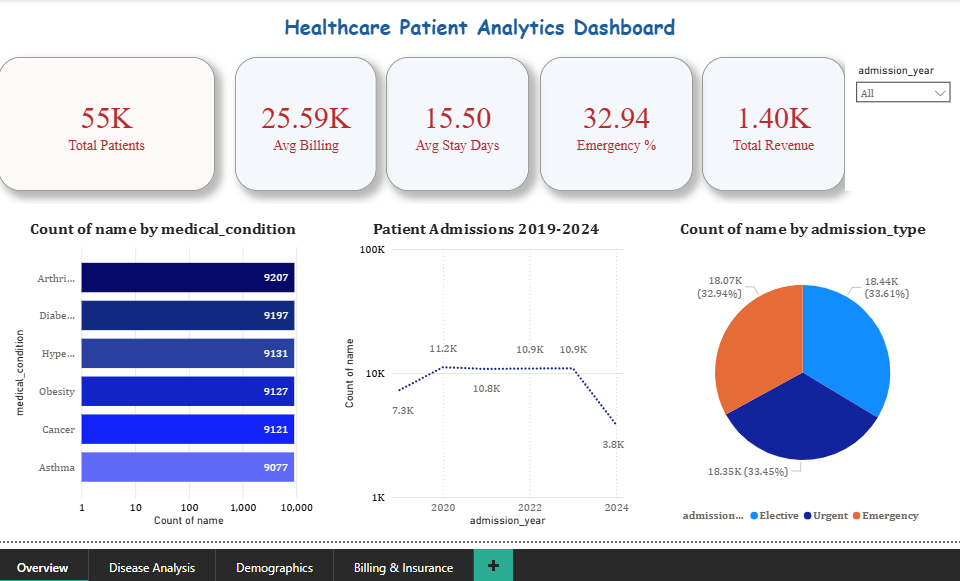

The page's visual inventory and layout, read from the dashboard file:
{"tool":"powerbi","page":{"name":"Overview","canvas":[1280,720],"ordinal":0},"visuals":[{"type":"card","fields":{"Values":["healthcare_clean.Total Patients"]},"box":[0,76.7,288.3,178.3],"z":0},{"type":"card","fields":{"Values":["healthcare_clean.Avg Billing"]},"box":[315,76.7,188.3,178.3],"z":1000},{"type":"card","fields":{"Values":["healthcare_clean.Avg Stay Days"]},"box":[515,76.7,190,178.3],"z":2000},{"type":"card","fields":{"Values":["healthcare_clean.Emergency %"]},"box":[720,76.7,203.3,178.3],"z":3000},{"type":"card","fields":{"Values":["healthcare_clean.Total Revenue"]},"box":[935,76.7,190,178.3],"z":4000},{"type":"clusteredBarChart","fields":{"Category":["healthcare_clean.medical_condition"],"Y":["CountNonNull(healthcare_clean.name)"]},"box":[0,271.7,438.3,448.3],"z":5000},{"type":"pieChart","fields":{"Category":["healthcare_clean.admission_type"],"Y":["CountNonNull(healthcare_clean.name)"]},"box":[858.3,271.7,421.7,448.3],"z":6000},{"type":"lineChart","title":"Patient Admissions 2019-2024","fields":{"Category":["healthcare_clean.admission_year"],"Y":["CountNonNull(healthcare_clean.name)"]},"box":[438.3,271.7,420,448.3],"z":7000},{"type":"slicer","fields":{"Values":["healthcare_clean.admission_year"]},"box":[1125,76.7,155,178.3],"z":8000},{"type":"textbox","box":[0,11.7,1280,65],"z":9000}]}

Visuals, with their boxes on the page's 1280x720 design canvas (x1, y1, x2, y2). These are canvas units, not pixel positions in the 960x581 screenshot, which may show the page scaled, cropped or inside an application window:
card - healthcare_clean.Total Patients: bbox=(0, 77, 288, 255)
card - healthcare_clean.Avg Billing: bbox=(315, 77, 503, 255)
card - healthcare_clean.Avg Stay Days: bbox=(515, 77, 705, 255)
card - healthcare_clean.Emergency %: bbox=(720, 77, 923, 255)
card - healthcare_clean.Total Revenue: bbox=(935, 77, 1125, 255)
clusteredBarChart - healthcare_clean.medical_condition x CountNonNull(healthcare_clean.name): bbox=(0, 272, 438, 720)
pieChart - healthcare_clean.admission_type x CountNonNull(healthcare_clean.name): bbox=(858, 272, 1280, 720)
"Patient Admissions 2019-2024" lineChart: bbox=(438, 272, 858, 720)
slicer - healthcare_clean.admission_year: bbox=(1125, 77, 1280, 255)
textbox: bbox=(0, 12, 1280, 77)
